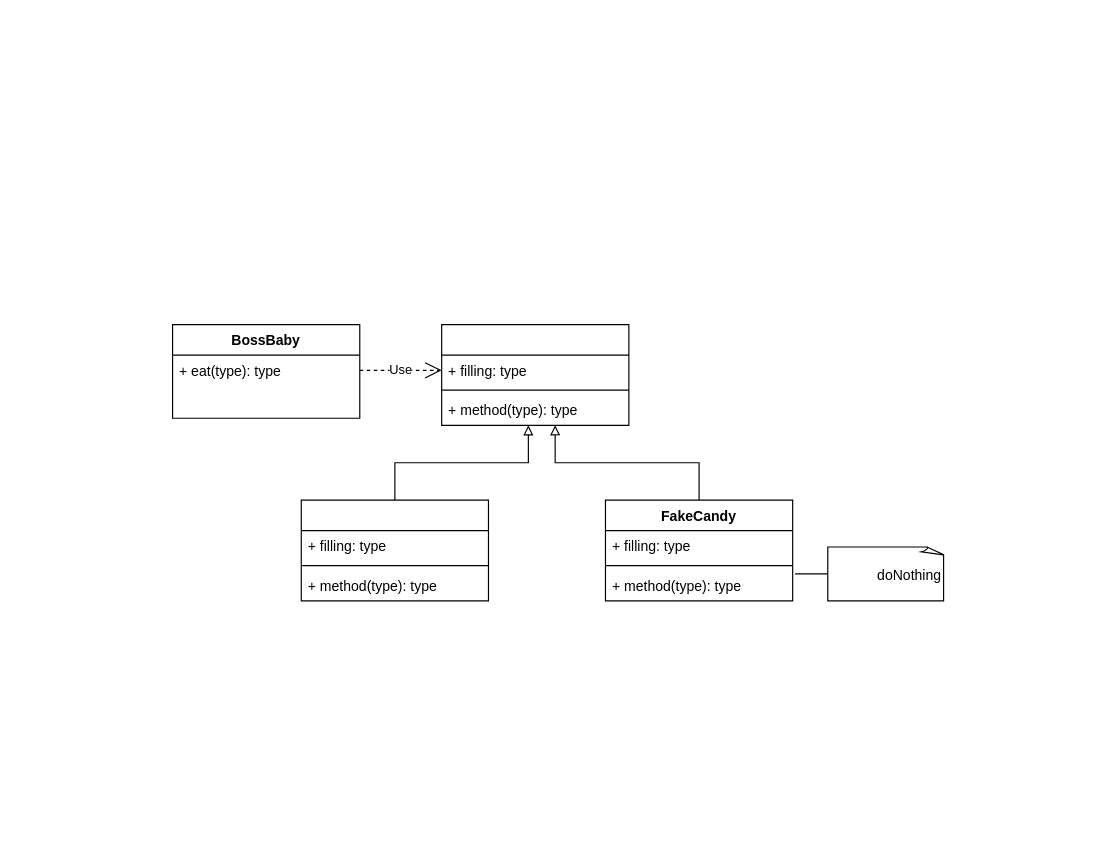
The diagram is 1106 pixels wide and 848 high, and some of its shapes have lost their labels. The shapes that lost their labels are listed below. From the top down, each one's box as (x1, y1, x2, y2) in pixels, then its label:
(441, 324, 629, 425): AbstractCandy
(300, 499, 488, 601): Candy
